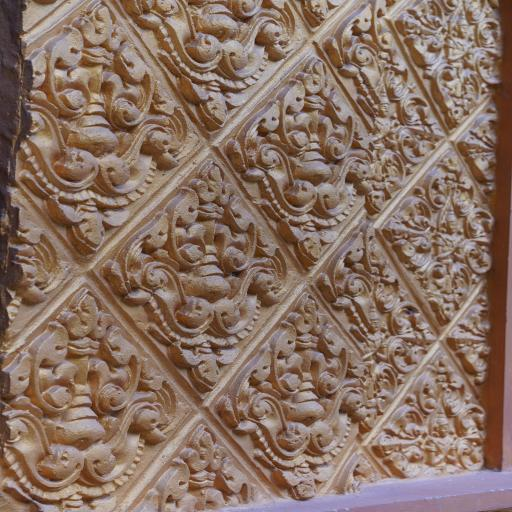lua: (96, 144, 312, 404), (13, 2, 204, 260), (0, 280, 196, 512), (228, 53, 406, 268), (220, 286, 397, 501), (119, 0, 312, 136), (374, 139, 507, 329), (365, 337, 502, 499), (384, 0, 512, 129), (135, 406, 275, 512), (437, 276, 504, 386), (454, 106, 508, 193)
